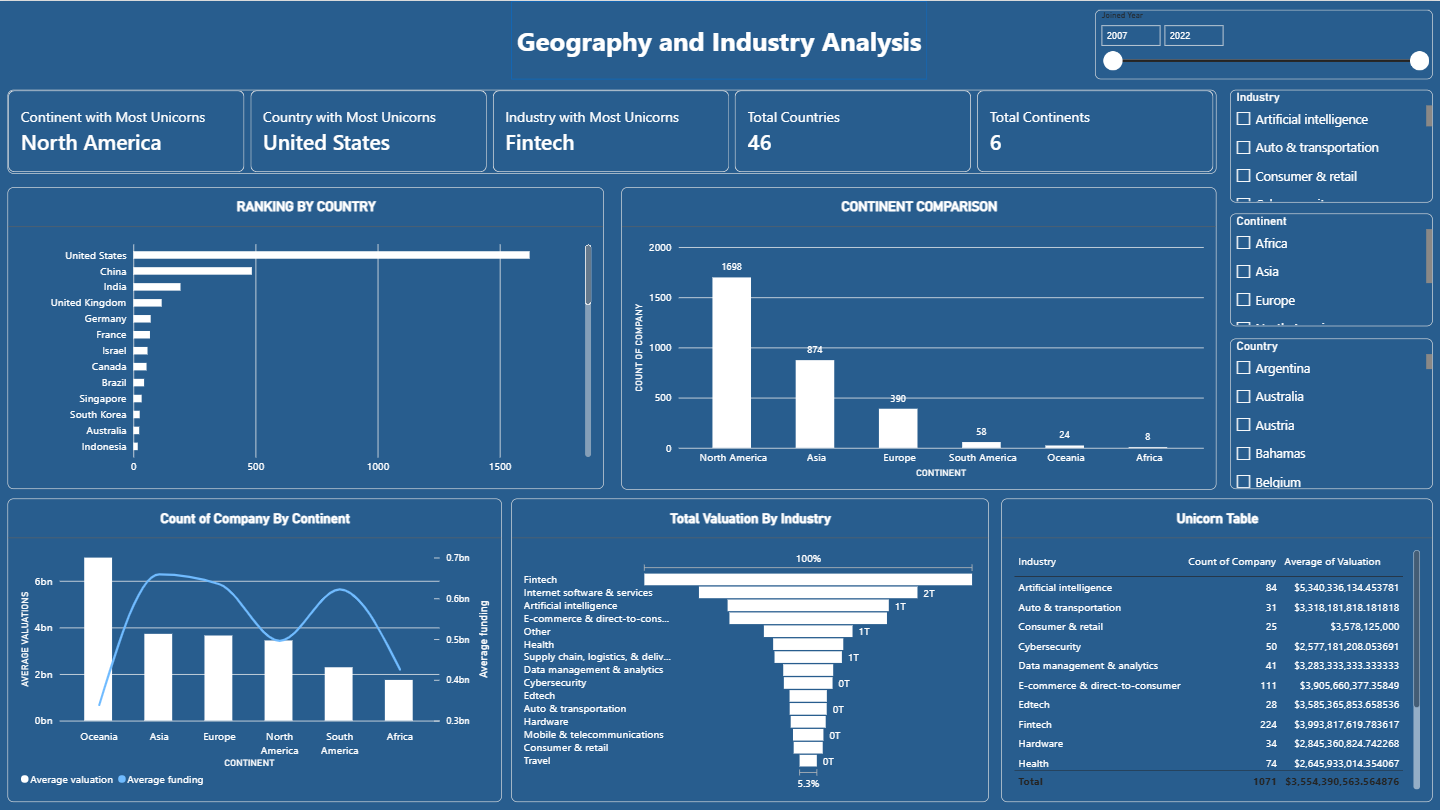

The page's visual inventory and layout, read from the dashboard file:
{"tool":"powerbi","page":{"name":"INDUSTRY ANALYSIS","canvas":[1920,1080],"ordinal":1},"visuals":[{"type":"lineClusteredColumnComboChart","title":"Count of Company By Continent","fields":{"Category":["unicorn.Continent"],"Y":["unicorn.Average valuation"],"Y2":["unicorn.Average funding"]},"box":[10.5,662.8,659.3,404.7],"z":0},{"type":"cardVisual","fields":{"Data":["unicorn.Continent with Most Unicorns","unicorn.Country with Most Unicorns","unicorn.Industry with Most Unicorns","unicorn.total_countries","unicorn.Total Continents"]},"box":[10.5,118.6,1611.6,111.6],"z":1000},{"type":"shape","box":[682,0,554.7,104.7],"z":2000},{"type":"funnel","title":"Total Valuation By Industry","fields":{"Category":["unicorn.Industry"],"Y":["unicorn.Total_valuations"]},"box":[682,662.8,636.6,404.7],"z":3000},{"type":"clusteredBarChart","title":"RANKING BY COUNTRY","fields":{"Category":["unicorn.Country"],"Y":["unicorn.total_company"]},"box":[10,248,795.3,402.7],"z":4000},{"type":"tableEx","title":"Unicorn Table","fields":{"Values":["unicorn.Industry","unicorn.Company","Avg(unicorn.Valuation)"]},"box":[1334.3,662.8,575.6,404.7],"z":5000},{"type":"clusteredColumnChart","title":"CONTINENT COMPARISON","fields":{"Category":["unicorn.Continent"],"Y":["unicorn.total_company"]},"box":[828.5,247.7,793.6,402.9],"z":6000},{"type":"slicer","fields":{"Values":["unicorn.Joined Year"]},"box":[1459.9,12.2,450,92.4],"z":7000},{"type":"slicer","fields":{"Values":["unicorn.Industry"]},"box":[1639.5,118.6,270.3,150],"z":8000},{"type":"slicer","fields":{"Values":["unicorn.Country"]},"box":[1639.5,450,270.3,200.6],"z":9000},{"type":"slicer","fields":{"Values":["unicorn.Continent"]},"box":[1639.5,282.6,270.3,150],"z":10000}]}

Visuals, with their boxes in screenshot pixels (x1, y1, x2, y2), scaled from the page's 1920x1080 canvas onto the 1440x810 screenshot:
"Count of Company By Continent" lineClusteredColumnComboChart: <box>8,497,502,801</box>
cardVisual - unicorn.Continent with Most Unicorns x unicorn.Country with Most Unicorns: <box>8,89,1217,173</box>
shape: <box>512,0,928,79</box>
"Total Valuation By Industry" funnel: <box>512,497,989,801</box>
"RANKING BY COUNTRY" clusteredBarChart: <box>8,186,604,488</box>
"Unicorn Table" tableEx: <box>1001,497,1432,801</box>
"CONTINENT COMPARISON" clusteredColumnChart: <box>621,186,1217,488</box>
slicer - unicorn.Joined Year: <box>1095,9,1432,78</box>
slicer - unicorn.Industry: <box>1230,89,1432,201</box>
slicer - unicorn.Country: <box>1230,338,1432,488</box>
slicer - unicorn.Continent: <box>1230,212,1432,324</box>
